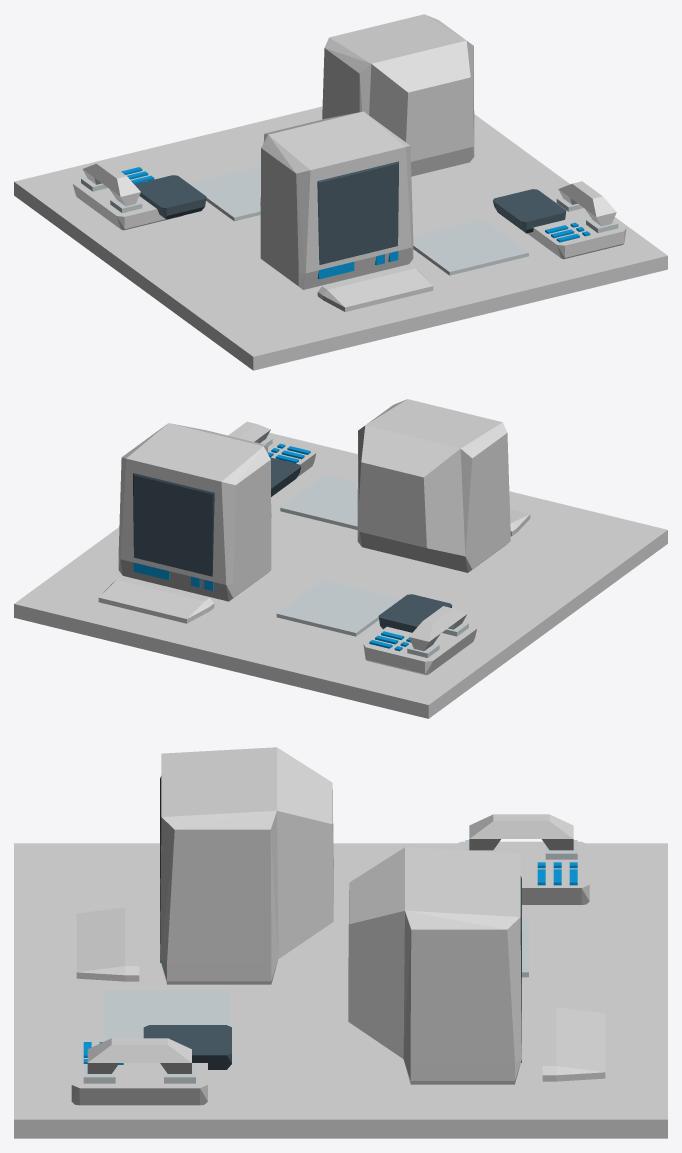
File: retro_systems.glb
The picture shows the model from 3 angles, top to bottom: view 1: azimuth 30°, elevation 25°; view 2: azimuth 150°, elevation 25°; view 3: azimuth 270°, elevation 25°; orthographic projection. The views are drawn at different scales.
Visible parts, largest first — view 1: group460286285, group666210079, group1317410846, group1917123719, group788855840, group238938701, group2060291384; view 2: group460286285, group1317410846, group666210079, group788855840, group2060291384, group238938701, group1917123719; view 3: group460286285, group1317410846, group666210079, group1917123719, group788855840, group238938701.
Boxes of the visible parts, left/top/right/bottom form: group460286285: left=14, top=106, right=667, bottom=370; group666210079: left=260, top=111, right=433, bottom=311; group1317410846: left=322, top=14, right=474, bottom=176; group1917123719: left=493, top=181, right=626, bottom=259; group788855840: left=72, top=161, right=206, bottom=230; group238938701: left=413, top=219, right=528, bottom=275; group2060291384: left=190, top=166, right=260, bottom=221; group460286285: left=14, top=432, right=667, bottom=718; group1317410846: left=98, top=423, right=271, bottom=623; group666210079: left=357, top=399, right=530, bottom=572; group788855840: left=363, top=594, right=476, bottom=675; group2060291384: left=276, top=580, right=400, bottom=636; group238938701: left=280, top=474, right=357, bottom=529; group1917123719: left=228, top=421, right=316, bottom=496; group460286285: left=14, top=843, right=667, bottom=1138; group1317410846: left=348, top=847, right=605, bottom=1084; group666210079: left=76, top=747, right=333, bottom=984; group1917123719: left=71, top=1025, right=231, bottom=1105; group788855840: left=453, top=814, right=589, bottom=904; group238938701: left=104, top=990, right=229, bottom=1041.
Bounding box in the file's own units: 0.94 × 0.3 × 0.94.
